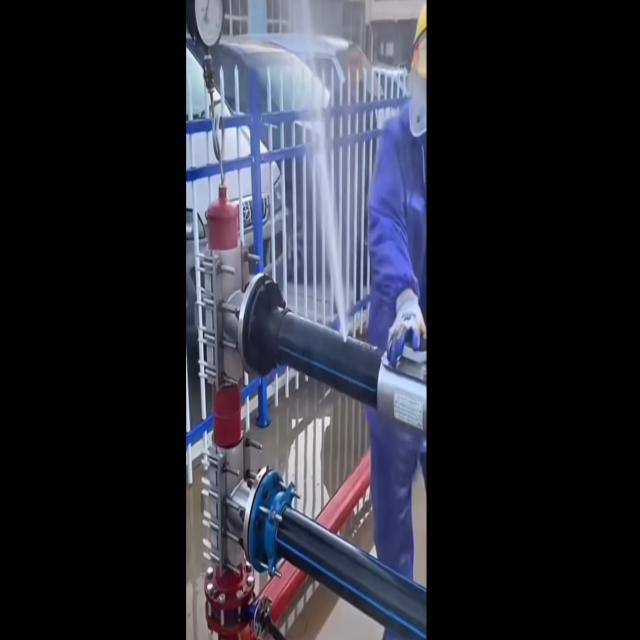leak: (304, 116, 348, 340)
